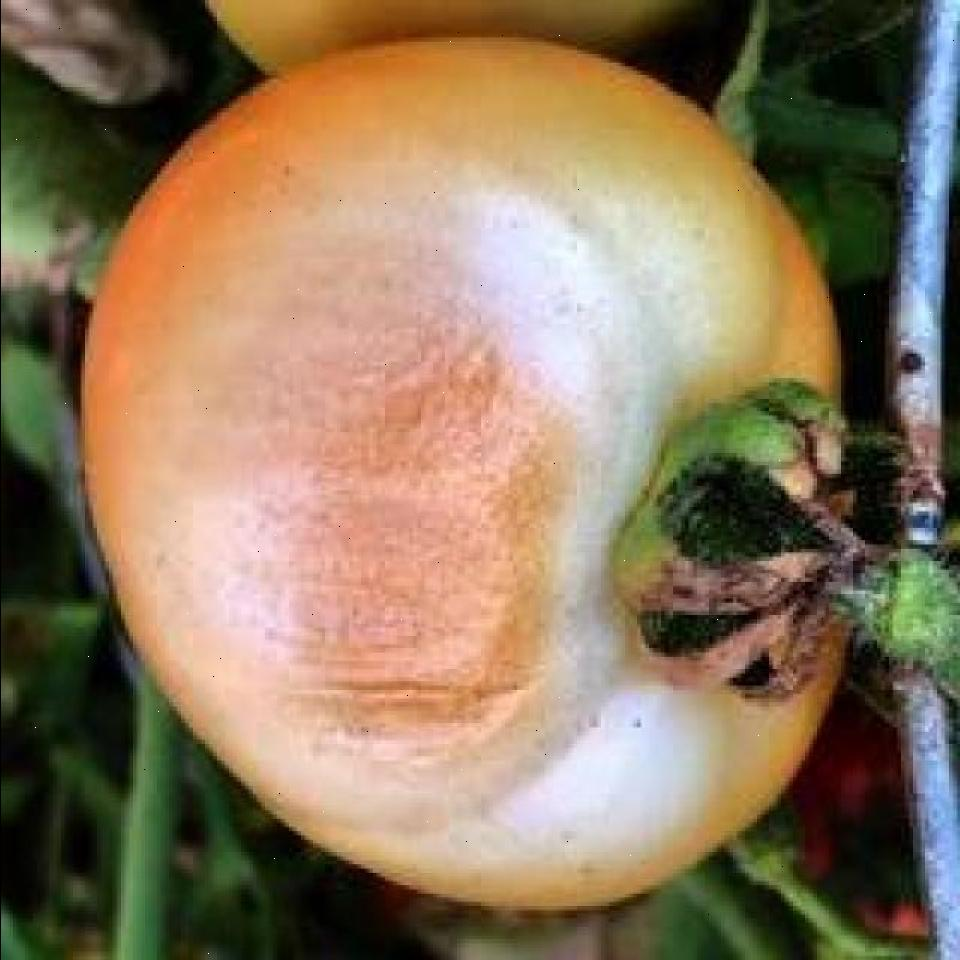Sunscald: (140, 206, 612, 800)
